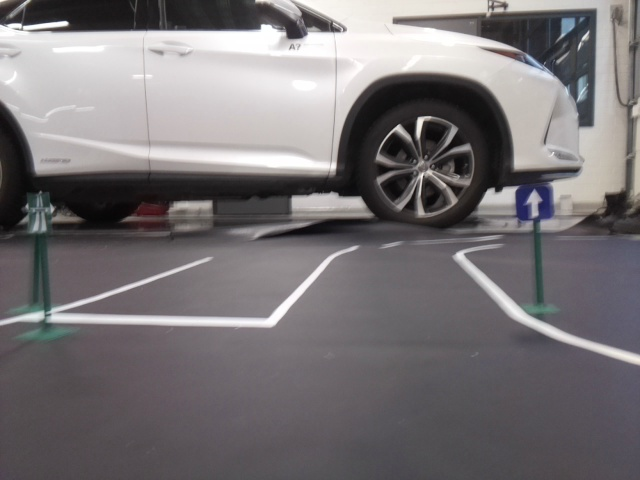OneWay: (517, 185, 555, 220)
